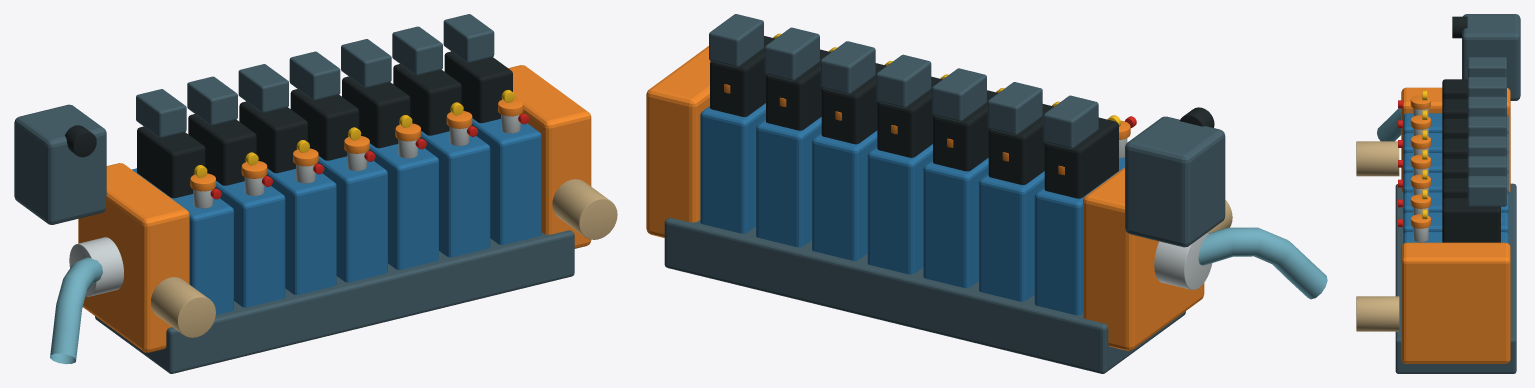
File: pneumatic_valve_manifold.glb
3 views of the same model, side by side, from view 1: azimuth 30°, elevation 25°; view 2: azimuth 150°, elevation 25°; view 3: azimuth 270°, elevation 25° (orthographic). The views are drawn at different scales.
Parts seen in each view (by area): view 1: DIN_BASE, END_BLOCK_LEFT, FIELDBUS_NODE, END_BLOCK_RIGHT, VALVE_SLICE_5, VALVE_SLICE_1, VALVE_SLICE_3, VALVE_SLICE_2, VALVE_SLICE_6, VALVE_SLICE_4, VALVE_SLICE_0, SOLENOID_0 (+18 smaller); view 2: DIN_BASE, FIELDBUS_NODE, END_BLOCK_LEFT, END_BLOCK_RIGHT, VALVE_SLICE_3, VALVE_SLICE_1, VALVE_SLICE_4, VALVE_SLICE_5, VALVE_SLICE_6, VALVE_SLICE_2, VALVE_SLICE_0, MAIN_AIR_SUPPLY (+15 smaller); view 3: END_BLOCK_RIGHT, DIN_BASE, FIELDBUS_NODE, SOLENOID_6, EXHAUST_MUFFLER_0.94, EXHAUST_MUFFLER_-0.94, END_BLOCK_LEFT, DIN_PLUG_6, DIN_PLUG_3, DIN_PLUG_4, DIN_PLUG_2, DIN_PLUG_5 (+25 smaller).
Part boxes in pixels (x1,y1,x2,y2): DIN_BASE: (95,230,574,373); END_BLOCK_LEFT: (78,163,189,352); FIELDBUS_NODE: (14,104,106,224); END_BLOCK_RIGHT: (508,65,591,248); VALVE_SLICE_5: (419,131,490,257); VALVE_SLICE_1: (214,181,285,307); VALVE_SLICE_3: (317,156,387,282); VALVE_SLICE_2: (266,168,336,294); VALVE_SLICE_6: (471,118,541,244); VALVE_SLICE_4: (368,143,438,269); VALVE_SLICE_0: (132,168,233,314); SOLENOID_0: (137,126,205,198); DIN_BASE: (664,217,1185,373); FIELDBUS_NODE: (1125,116,1225,247); END_BLOCK_LEFT: (1083,167,1204,350); END_BLOCK_RIGHT: (646,46,710,237); VALVE_SLICE_3: (867,144,932,274); VALVE_SLICE_1: (979,171,1044,301); VALVE_SLICE_4: (812,130,877,260); VALVE_SLICE_5: (756,117,821,247); VALVE_SLICE_6: (700,103,765,233); VALVE_SLICE_2: (923,158,988,288); VALVE_SLICE_0: (1034,157,1124,315); MAIN_AIR_SUPPLY: (1198,227,1327,299); END_BLOCK_RIGHT: (1401,242,1510,363); DIN_BASE: (1395,183,1516,373); FIELDBUS_NODE: (1462,14,1520,100); SOLENOID_6: (1442,198,1500,242); EXHAUST_MUFFLER_0.94: (1356,296,1399,331); EXHAUST_MUFFLER_-0.94: (1356,141,1399,176); END_BLOCK_LEFT: (1401,87,1510,191); DIN_PLUG_6: (1467,176,1506,206); DIN_PLUG_3: (1467,116,1506,137); DIN_PLUG_4: (1467,136,1506,157); DIN_PLUG_2: (1467,96,1506,117); DIN_PLUG_5: (1467,156,1506,177).
Size of the model in its own units: 2.58 by 1.02 by 0.84.
